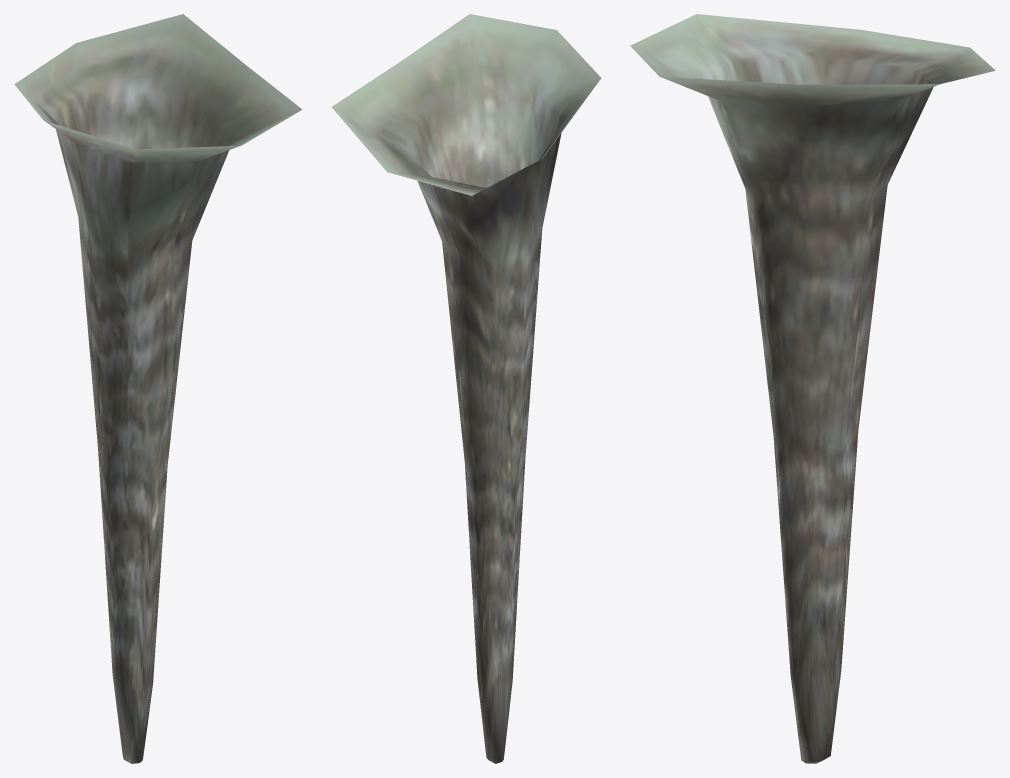
The model's file is TROLLHOLE02_PS-MAINSTALAG15.fbx.
3 renders of one model, left to right at view 1: azimuth 30°, elevation 25°; view 2: azimuth 150°, elevation 25°; view 3: azimuth 270°, elevation 25°, orthographic. The views are drawn at different scales.
Parts seen in each view (by area): view 1: TROLLHOLE02_PS-MAINSTALAG15; view 2: TROLLHOLE02_PS-MAINSTALAG15; view 3: TROLLHOLE02_PS-MAINSTALAG15.
Boxes of the visible parts, x1,y1,x2,y2 form: TROLLHOLE02_PS-MAINSTALAG15: [14, 14, 302, 763]; TROLLHOLE02_PS-MAINSTALAG15: [332, 14, 601, 763]; TROLLHOLE02_PS-MAINSTALAG15: [630, 14, 995, 763].
Size of the model in its own units: 13150 by 48415 by 21714.
Materials: 1 (1 with a texture image).
